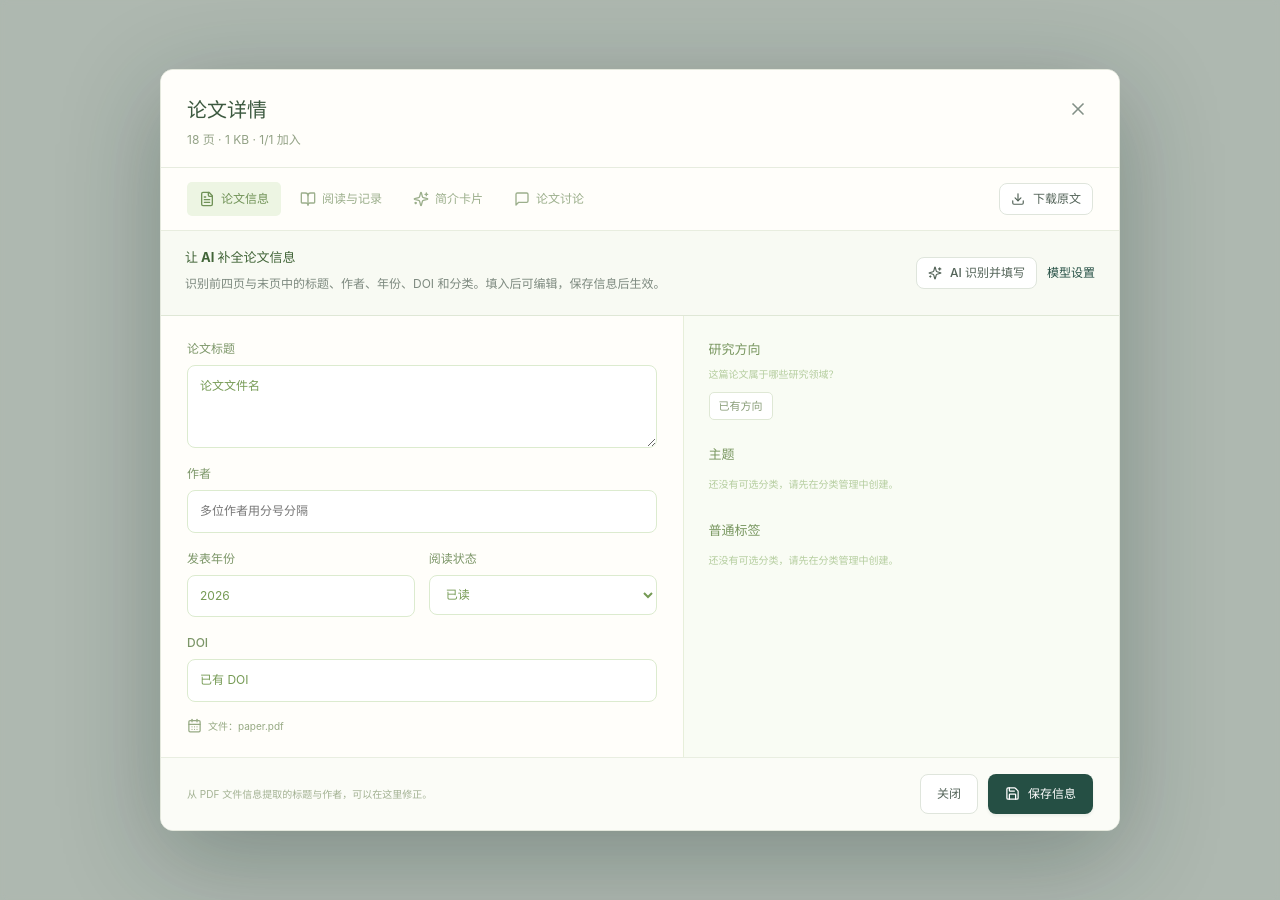
普通标签超过十个后仍可填入建议，按二十个合计上限控制
The image size is (1280, 900).
What coordinates should you click on to do the following:
click the button "AI 识别并填写"
I would click on:
 (976, 273)
Its box is x1=916 y1=257 x2=1037 y2=289.
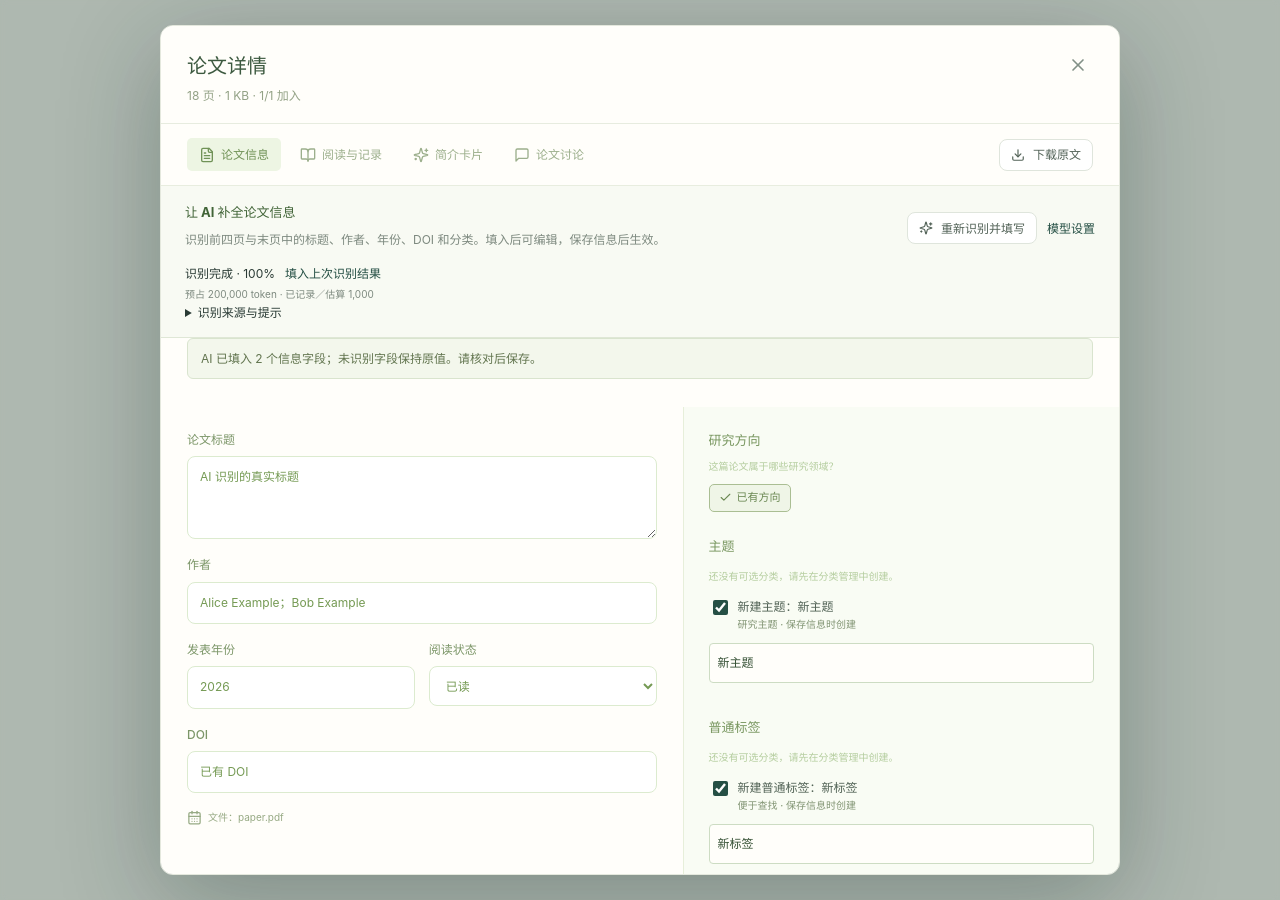
Result: the field named "待新建普通标签名称 2" is shown at x1=708 y1=824 x2=1094 y2=864
Result: the checkbox labelled "新建普通标签：新标签 便于查找 · 保存信息时创建" is checked at x1=712 y1=781 x2=728 y2=796
Result: the checkbox labelled "新建普通标签：新标签 便于查找 · 保存信息时创建" is enabled at x1=712 y1=781 x2=728 y2=796
